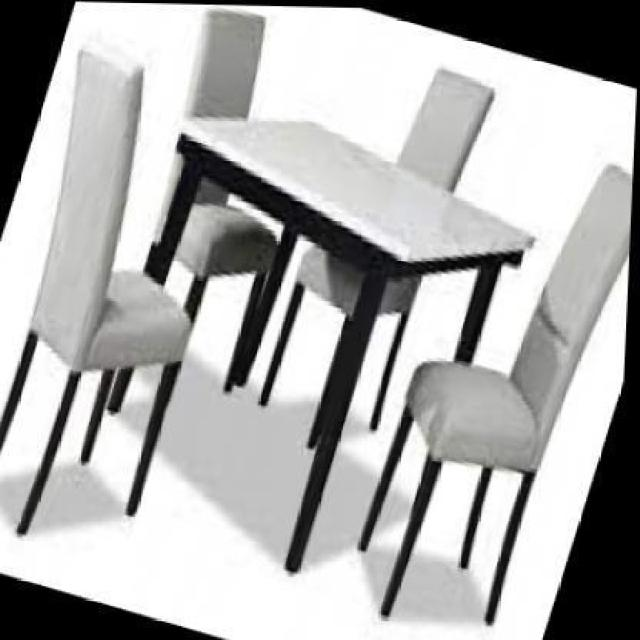tables: (144, 112, 536, 572)
